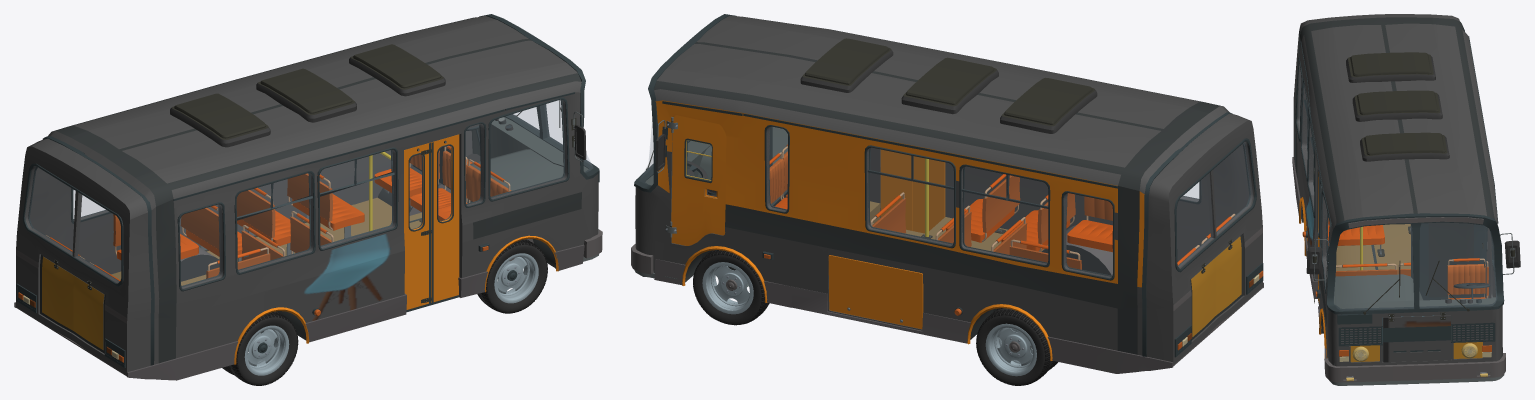
Rendered from bus.fbx.
3 renders of one model, left to right at view 1: azimuth 30°, elevation 25°; view 2: azimuth 150°, elevation 25°; view 3: azimuth 270°, elevation 25°, orthographic. The views are drawn at different scales.
Visible parts, largest first — view 1: BezierCurve.003; view 2: BezierCurve.003; view 3: BezierCurve.003.
Part boxes in pixels (x1,y1,x2,y2): BezierCurve.003: (14, 14, 602, 385); BezierCurve.003: (631, 14, 1263, 385); BezierCurve.003: (1292, 14, 1520, 385).
Size of the model in its own units: 1165 by 514 by 513.
